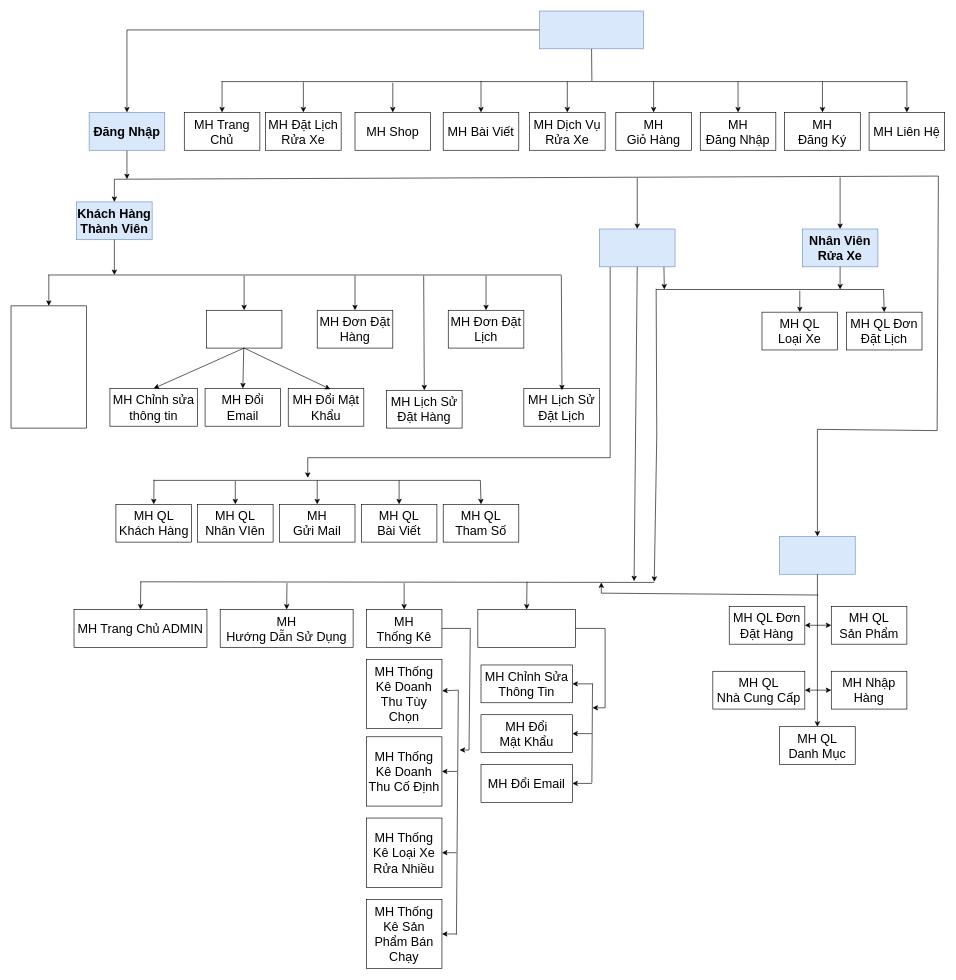
Some shapes in this 956 by 980 pixel diagram are drawn without their labels. Here are the shapes that lost their labels. From the top down, the centre of each, then its label:
point 591,29: KHÁCH HÀNG VÃNG LAI
point 637,247: Quản Lý
point 244,329: MH Cá Nhân
point 48,366: Có tất cả màn hình của khách hàng vãng lai trừ MH Đăng Nhập, Đăng Ký
point 817,555: Nhân Viên Bán Hàng
point 526,628: MH Trang Cá Nhân
